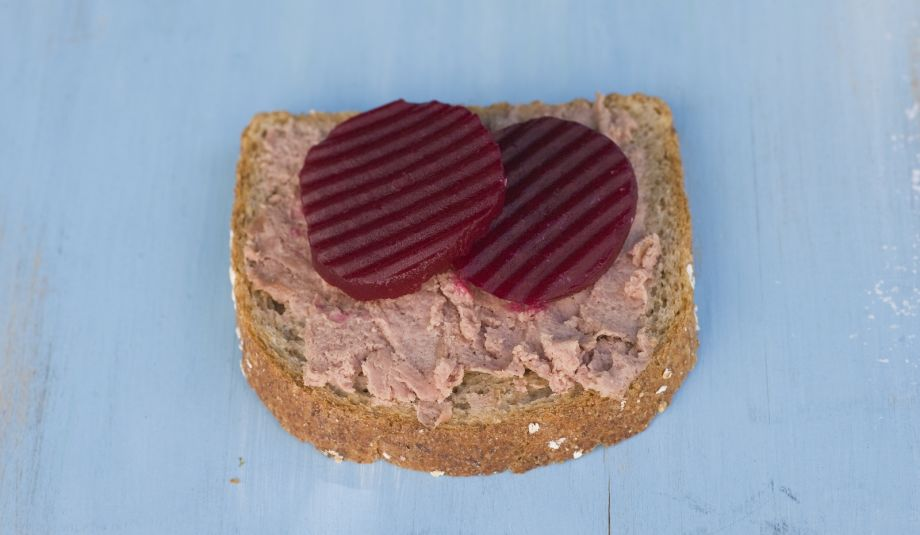slice of bread: (222, 100, 706, 473)
